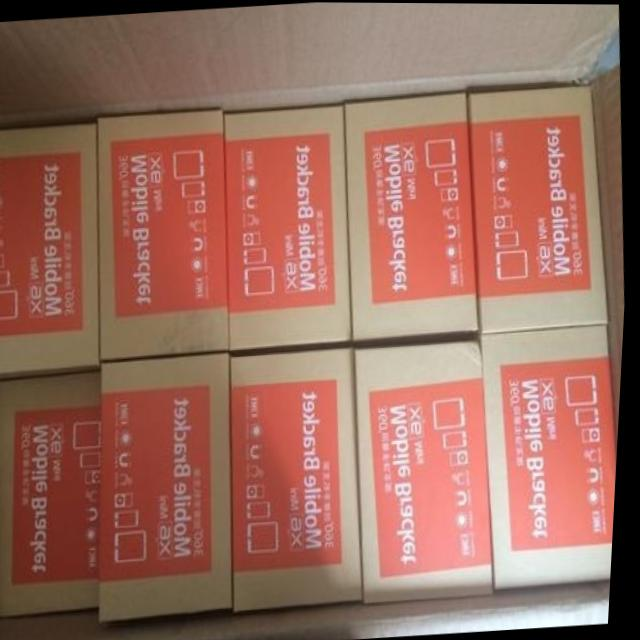box: (358, 340, 499, 603), (484, 322, 621, 589), (104, 352, 239, 621), (469, 84, 612, 333), (234, 348, 368, 611), (98, 107, 233, 360), (345, 90, 481, 340), (225, 102, 356, 349), (0, 371, 105, 616), (0, 123, 102, 373)
